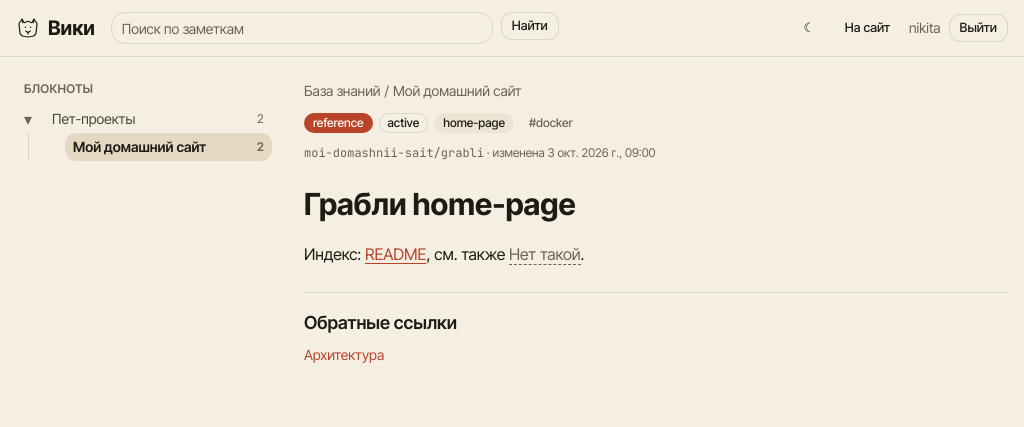
it: вики: доступ › «Выйти» в шапке вики: после выхода — на вход сайта с возвратом на корень вики
The width and height of the screenshot is (1024, 427).
Expected: the heading "Обратные ссылки" is shown, x1=304 y1=312 x2=457 y2=333
Click the button "Выйти" at (978, 28), box x1=949 y1=14 x2=1008 y2=42
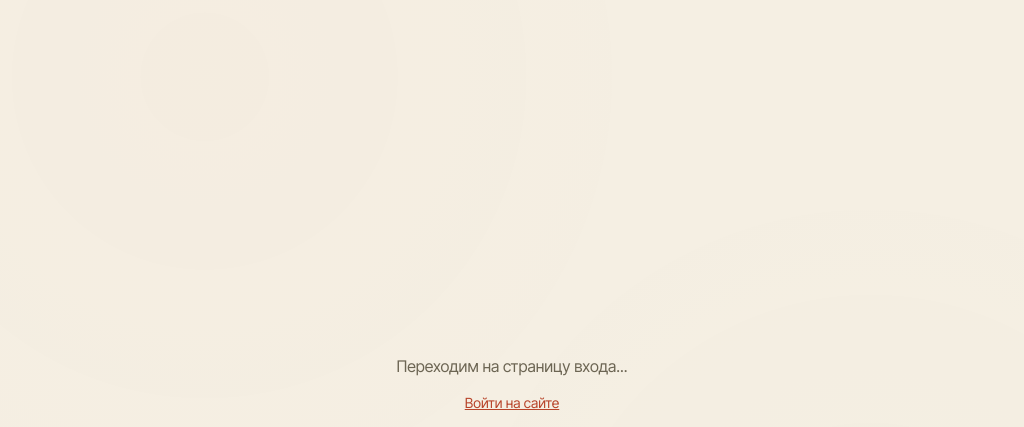
Result: the heading "Обратные ссылки" is gone
